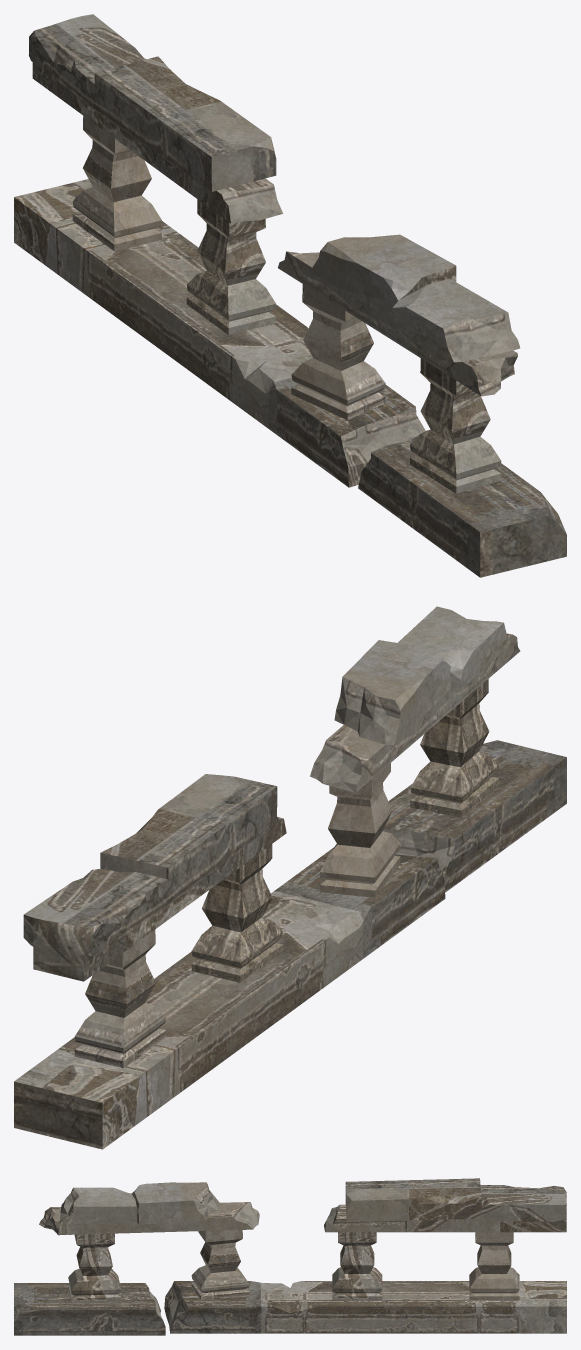
The model's file is bg_lut_lutomb_brokenfence01_sm_old.FBX.
The picture shows the model from 3 angles, top to bottom: view 1: azimuth 30°, elevation 25°; view 2: azimuth 150°, elevation 25°; view 3: azimuth 270°, elevation 25°; orthographic projection. The views are drawn at different scales.
Parts seen in each view (by area): view 1: bg_lut_lutomb_brokenfence01_sm_old; view 2: bg_lut_lutomb_brokenfence01_sm_old; view 3: bg_lut_lutomb_brokenfence01_sm_old.
Boxes of the visible parts, box(x1,y1,x2,y2) form: bg_lut_lutomb_brokenfence01_sm_old: box(14, 14, 566, 577); bg_lut_lutomb_brokenfence01_sm_old: box(14, 606, 566, 1149); bg_lut_lutomb_brokenfence01_sm_old: box(14, 1178, 566, 1335).
Size of the model in its own units: 29.85 by 67.66 by 256.
